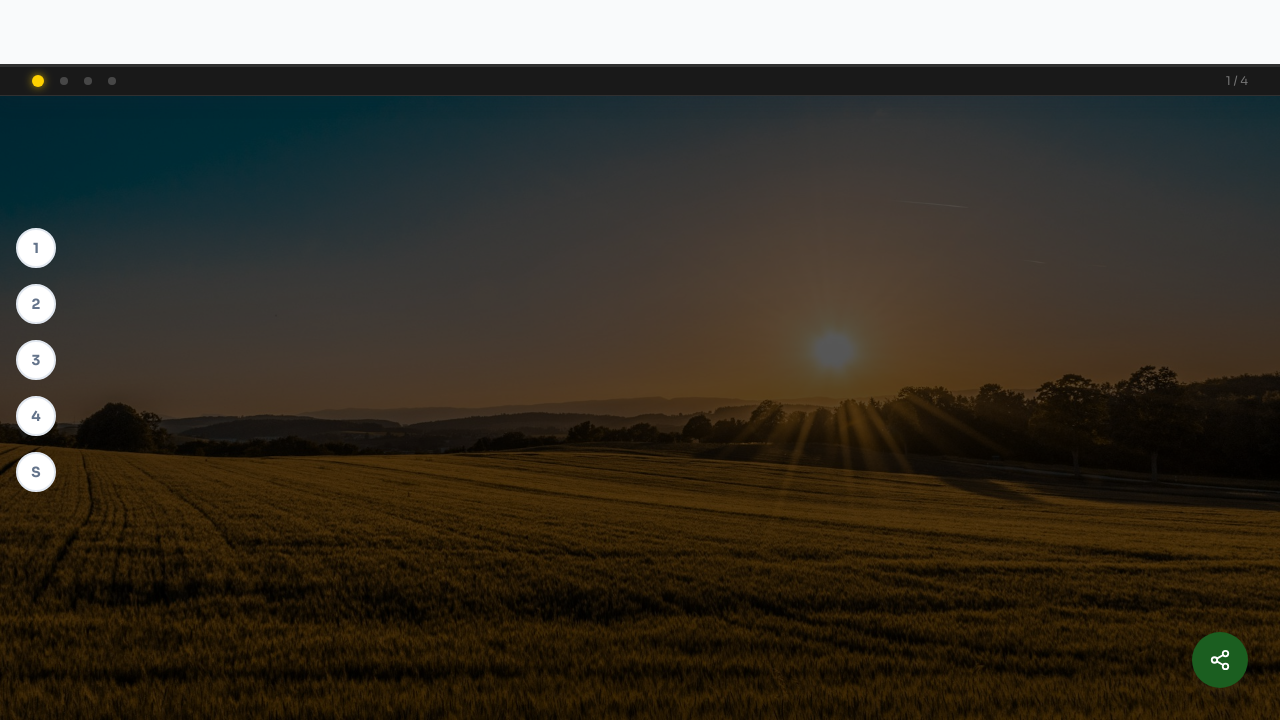
Scenario: StoryPage › opens share modal on share button click
Click the button named "Partager": [1220, 660] box left=1192, top=632, right=1248, bottom=688
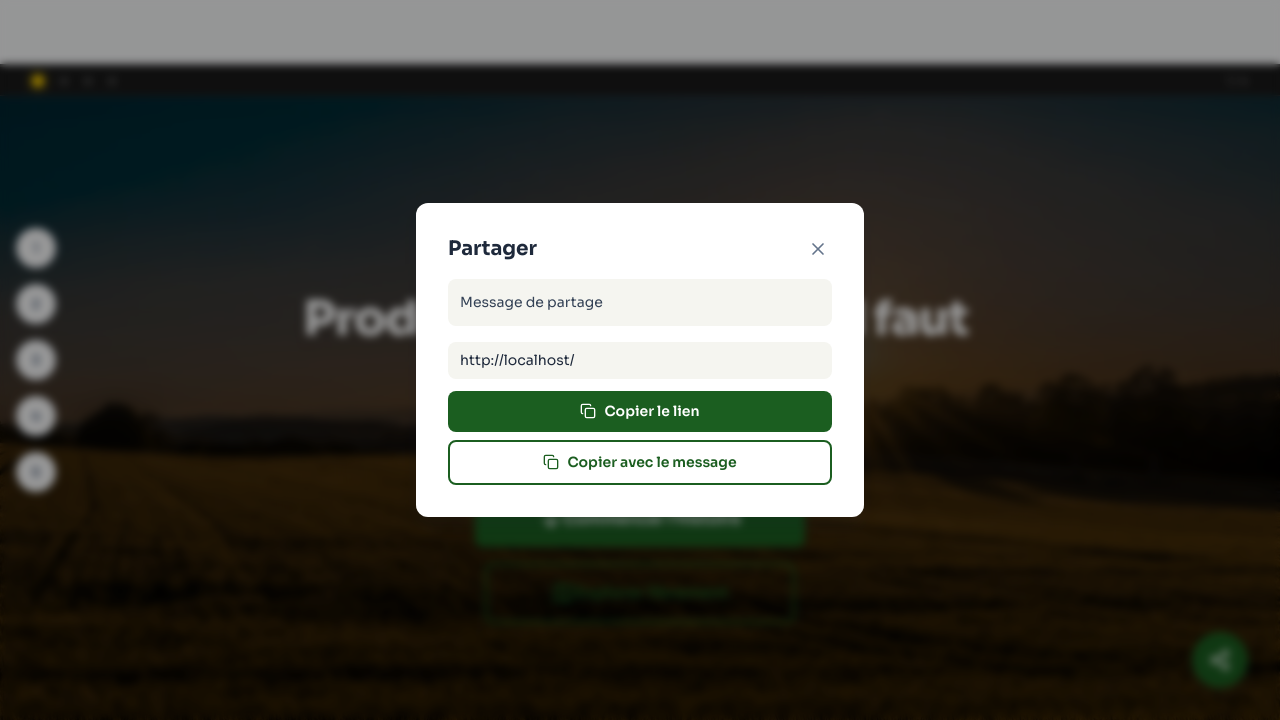
Expected: the heading "Partager" is shown, left=448, top=236, right=537, bottom=262
Expected: the button "Copier le lien" is shown, left=448, top=391, right=832, bottom=432
Expected: the button "Copier avec le message" is shown, left=448, top=440, right=832, bottom=485
